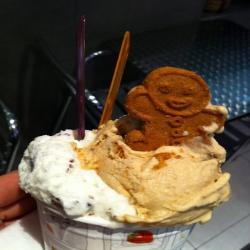icecream: (21, 123, 227, 250)
